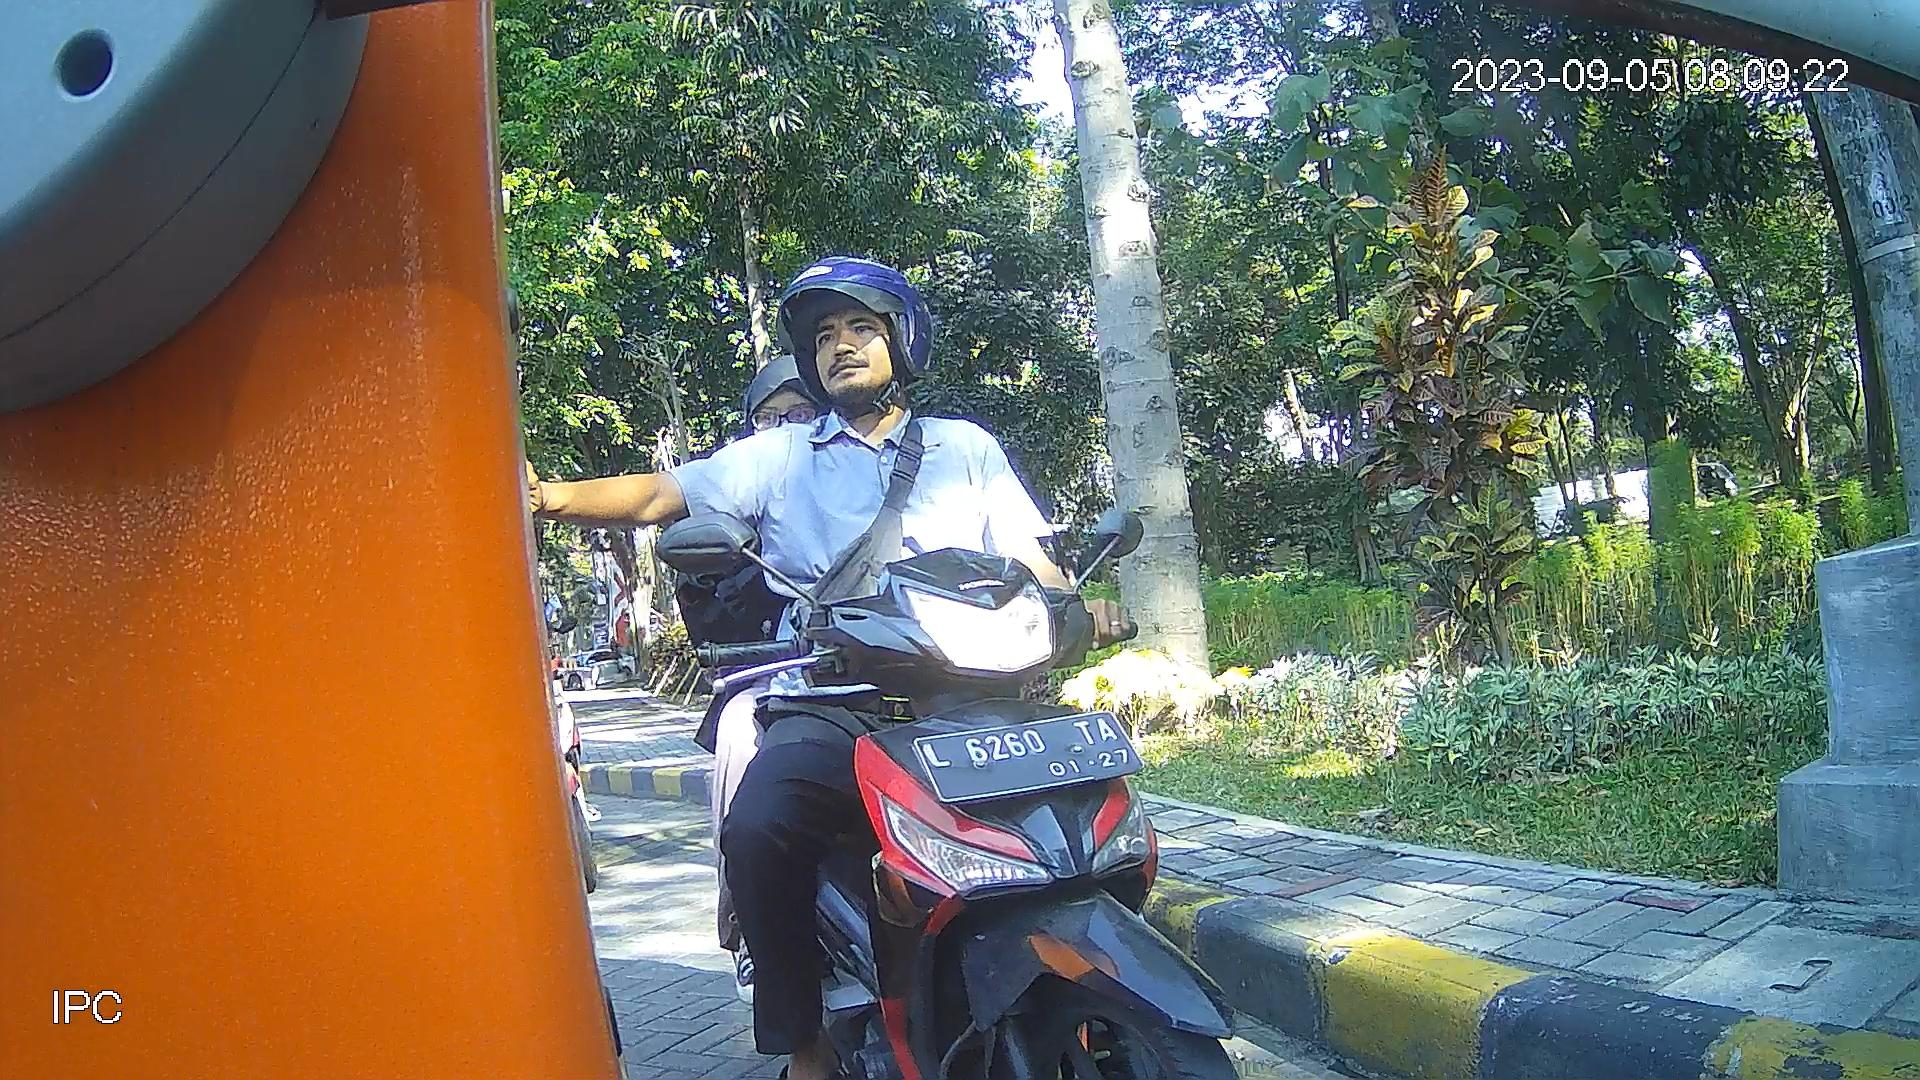plat: (910, 708, 1150, 806)
